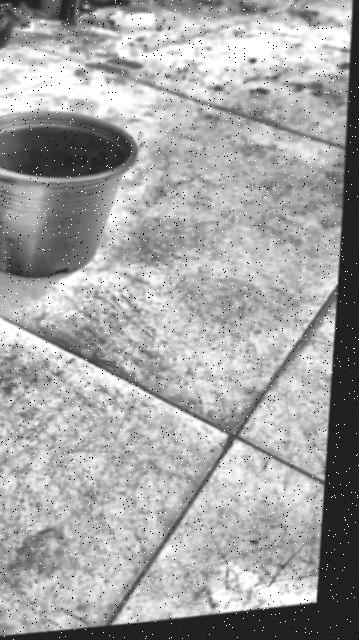pot: (0, 98, 143, 283)
